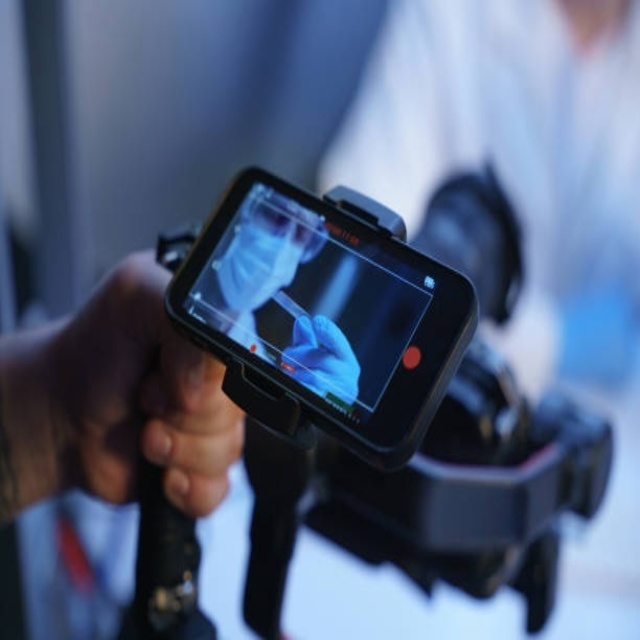Guantes: (282, 309, 362, 406)
Mascara: (210, 203, 309, 316)
Sin_guantes: (2, 234, 249, 519)
